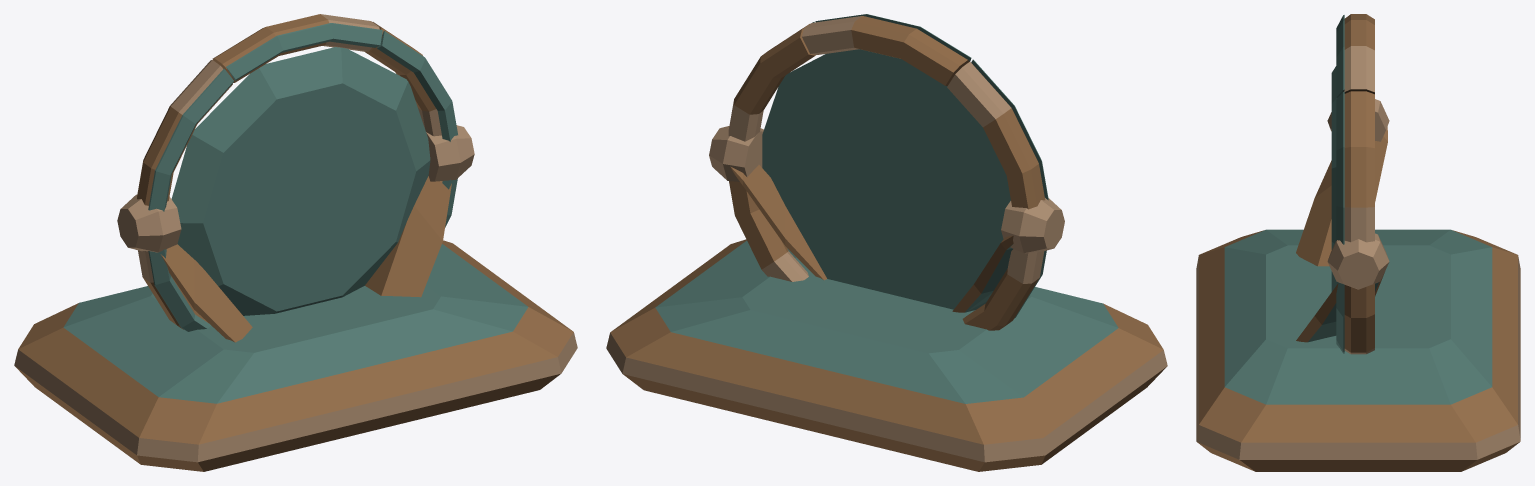
Rendered from garden-heliostat.glb.
The picture shows the model from 3 angles, left to right: view 1: azimuth 30°, elevation 25°; view 2: azimuth 150°, elevation 25°; view 3: azimuth 270°, elevation 25°; orthographic projection. The views are drawn at different scales.
Visible parts, largest first — view 1: garden-heliostat; view 2: garden-heliostat; view 3: garden-heliostat.
Part boxes in pixels (x1,y1,x2,y2): garden-heliostat: (14,14,577,471); garden-heliostat: (606,14,1167,471); garden-heliostat: (1196,14,1520,471).
Size of the model in its own units: 5.72 by 4.36 by 3.76.
